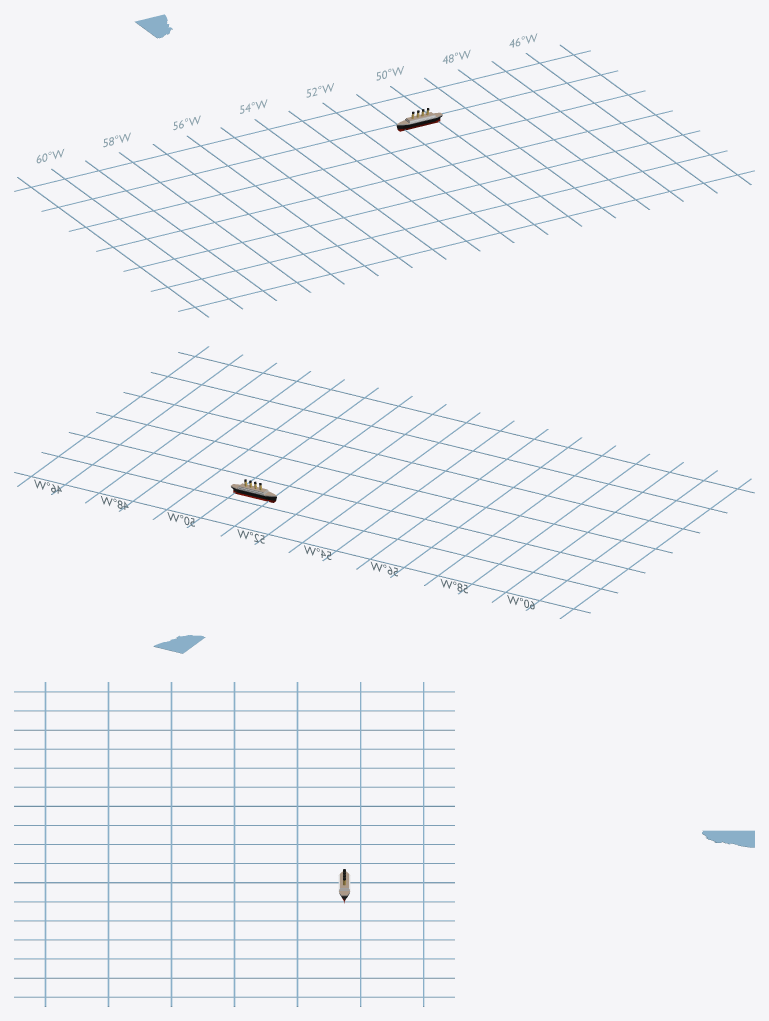
File: atlantic.gltf
3 views of the same model, one above another, from view 1: azimuth 30°, elevation 25°; view 2: azimuth 150°, elevation 25°; view 3: azimuth 270°, elevation 25° (orthographic). The views are drawn at different scales.
Parts seen in each view (by area): view 1: Grid, Longs, Titanic, Canada; view 2: Grid, Longs, Titanic, Canada; view 3: Grid, Canada.
Boxes of the visible parts, bbox=[...] form: Grid: bbox=[14, 44, 754, 317]; Longs: bbox=[36, 33, 537, 163]; Titanic: bbox=[396, 108, 442, 131]; Canada: bbox=[135, 14, 172, 38]; Grid: bbox=[14, 346, 754, 618]; Longs: bbox=[34, 479, 534, 609]; Titanic: bbox=[231, 479, 276, 502]; Canada: bbox=[153, 635, 205, 653]; Grid: bbox=[14, 682, 454, 1006]; Canada: bbox=[702, 830, 754, 847].
Bounding box in the file's own units: 343 × 9.45 × 331.
